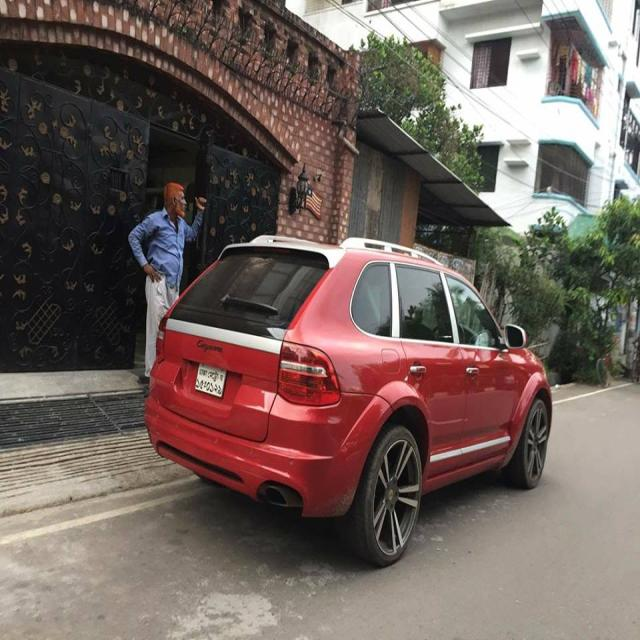numberplate: (194, 363, 227, 398)
